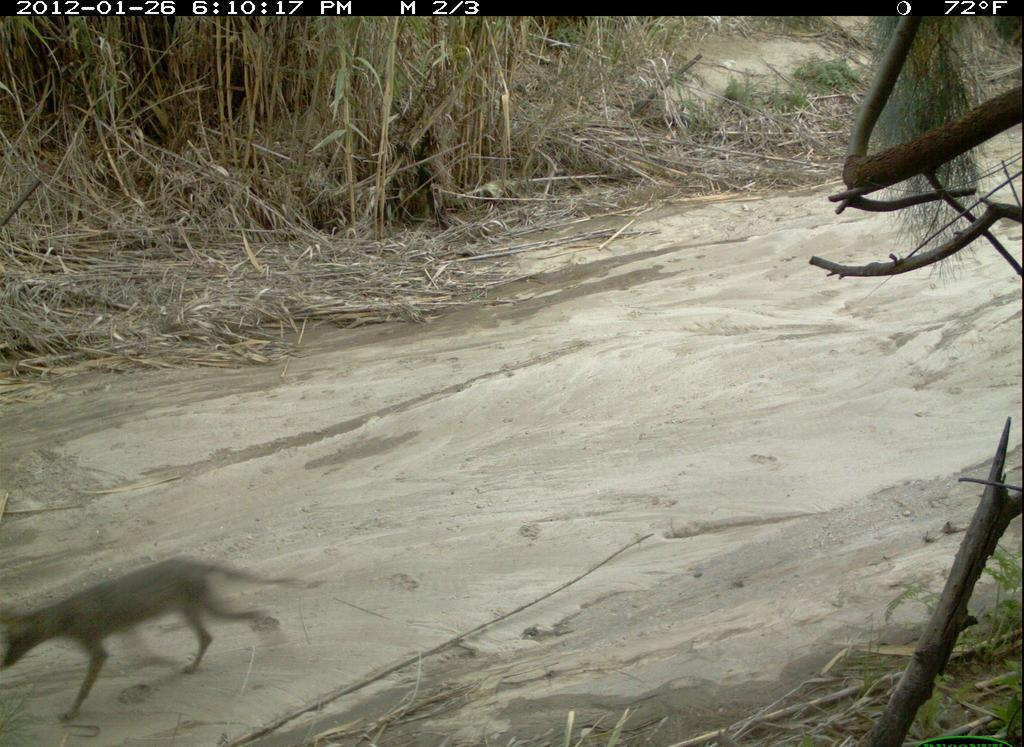coyote: (1, 550, 303, 729)
